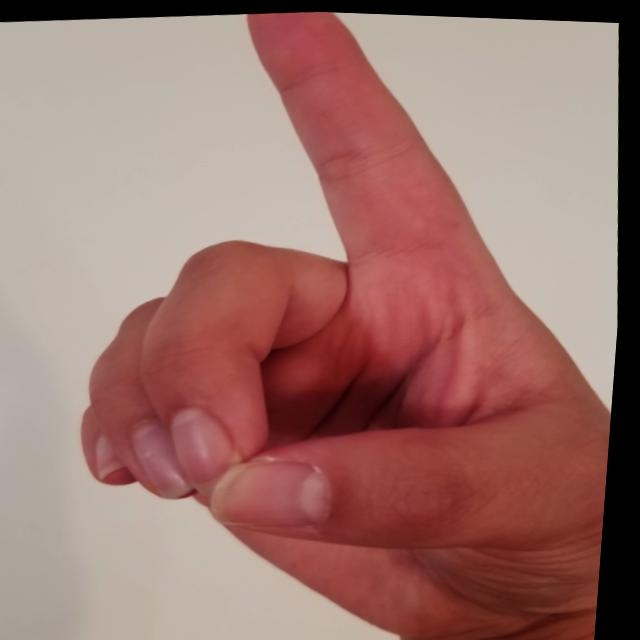D: (31, 2, 639, 640)
